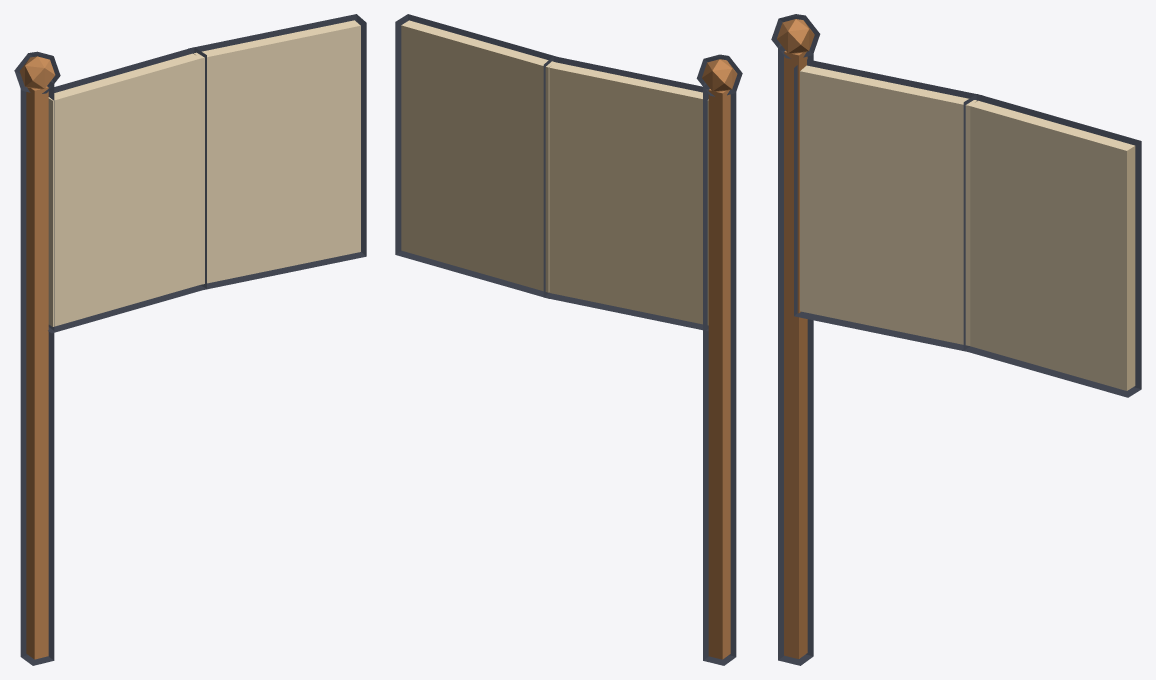
File: flag_small.glb
The picture shows the model from 3 angles, left to right: view 1: azimuth 30°, elevation 25°; view 2: azimuth 150°, elevation 25°; view 3: azimuth 330°, elevation 25°; orthographic projection. The views are drawn at different scales.
Visible parts, largest first — view 1: cloth, pole, ink_outline (×2); view 2: cloth, ink_outline (×2), pole; view 3: cloth, ink_outline (×2), pole.
Part boxes in pixels (x1,y1,x2,y2): cloth: [48, 20, 360, 326]; pole: [19, 56, 55, 659]; ink_outline (×2): [14, 14, 366, 665]; cloth: [401, 20, 708, 325]; ink_outline (×2): [395, 14, 742, 665]; pole: [702, 59, 737, 659]; cloth: [800, 65, 1135, 390]; ink_outline (×2): [771, 14, 1141, 665]; pole: [777, 19, 814, 658].
Bounding box in the file's own units: 0.0548 × 0.0939 × 0.00547.
